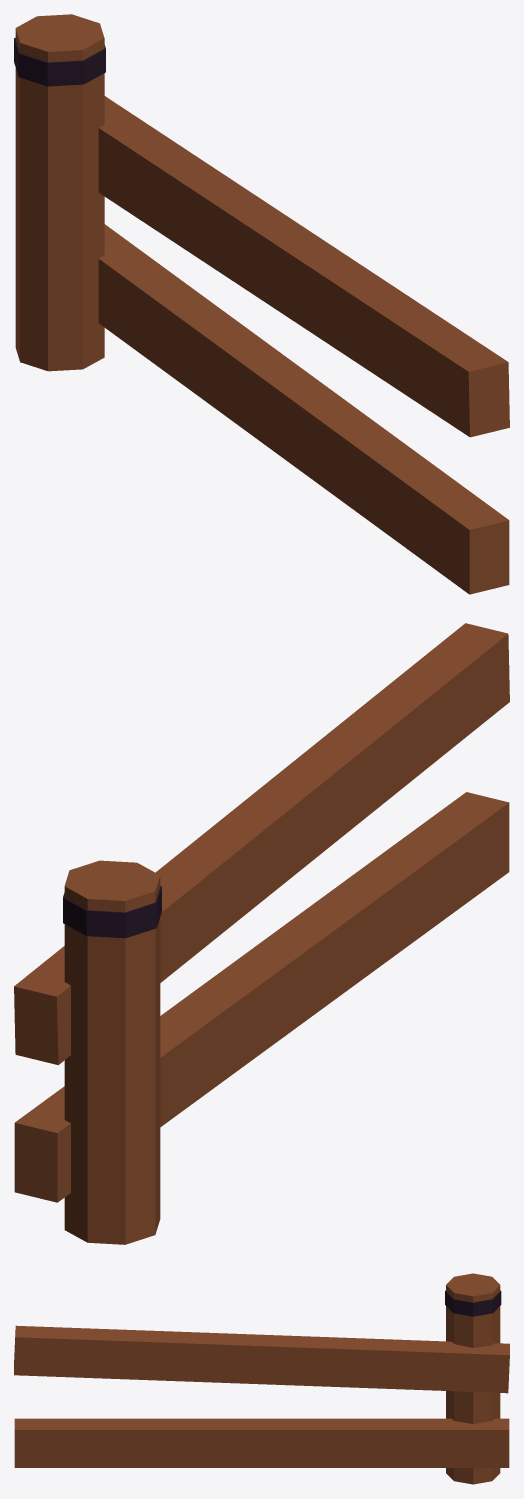
File: Fence2.fbx
3 views of the same model, one above another, from view 1: azimuth 30°, elevation 25°; view 2: azimuth 150°, elevation 25°; view 3: azimuth 270°, elevation 25° (orthographic). The views are drawn at different scales.
Parts seen in each view (by area): view 1: Cube.001; view 2: Cube.001; view 3: Cube.001.
Boxes of the visible parts, x1,y1,x2,y2 form: Cube.001: [14, 14, 509, 594]; Cube.001: [14, 623, 509, 1244]; Cube.001: [14, 1273, 509, 1484].
Bounding box in the file's own units: 155 × 466 × 1114.
